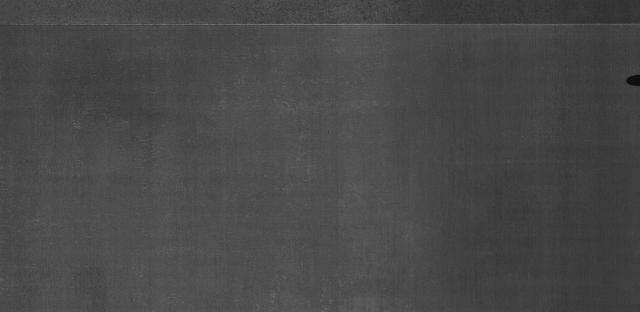punching_hole: (618, 71, 640, 89)
welding_line: (1, 18, 639, 36)
